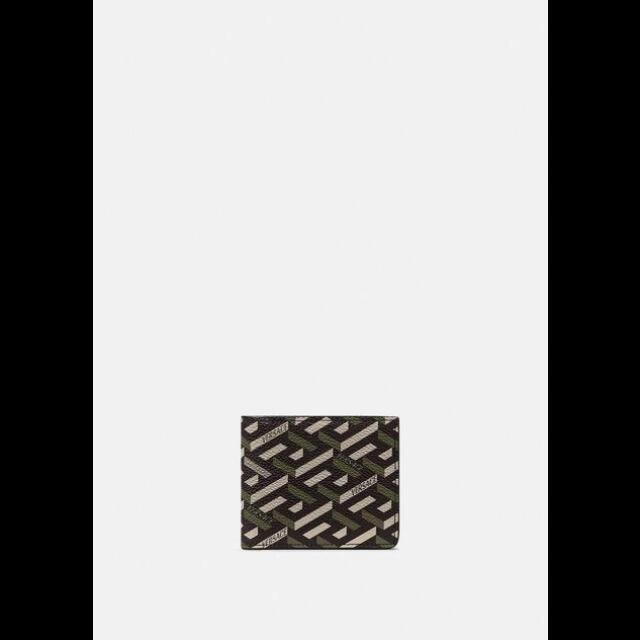Wallet: (235, 411, 403, 553)
